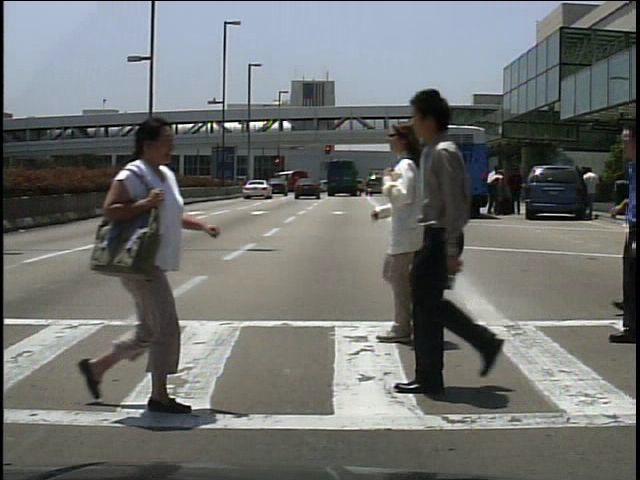person: (80, 120, 215, 418), (381, 85, 507, 397), (355, 117, 474, 357), (485, 162, 503, 214), (508, 166, 526, 216), (585, 168, 602, 218)
